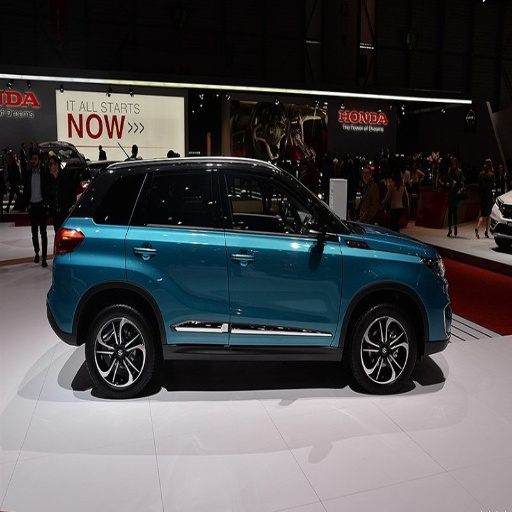back_right_door: (127, 161, 228, 350)
front_right_door: (225, 163, 342, 347)
